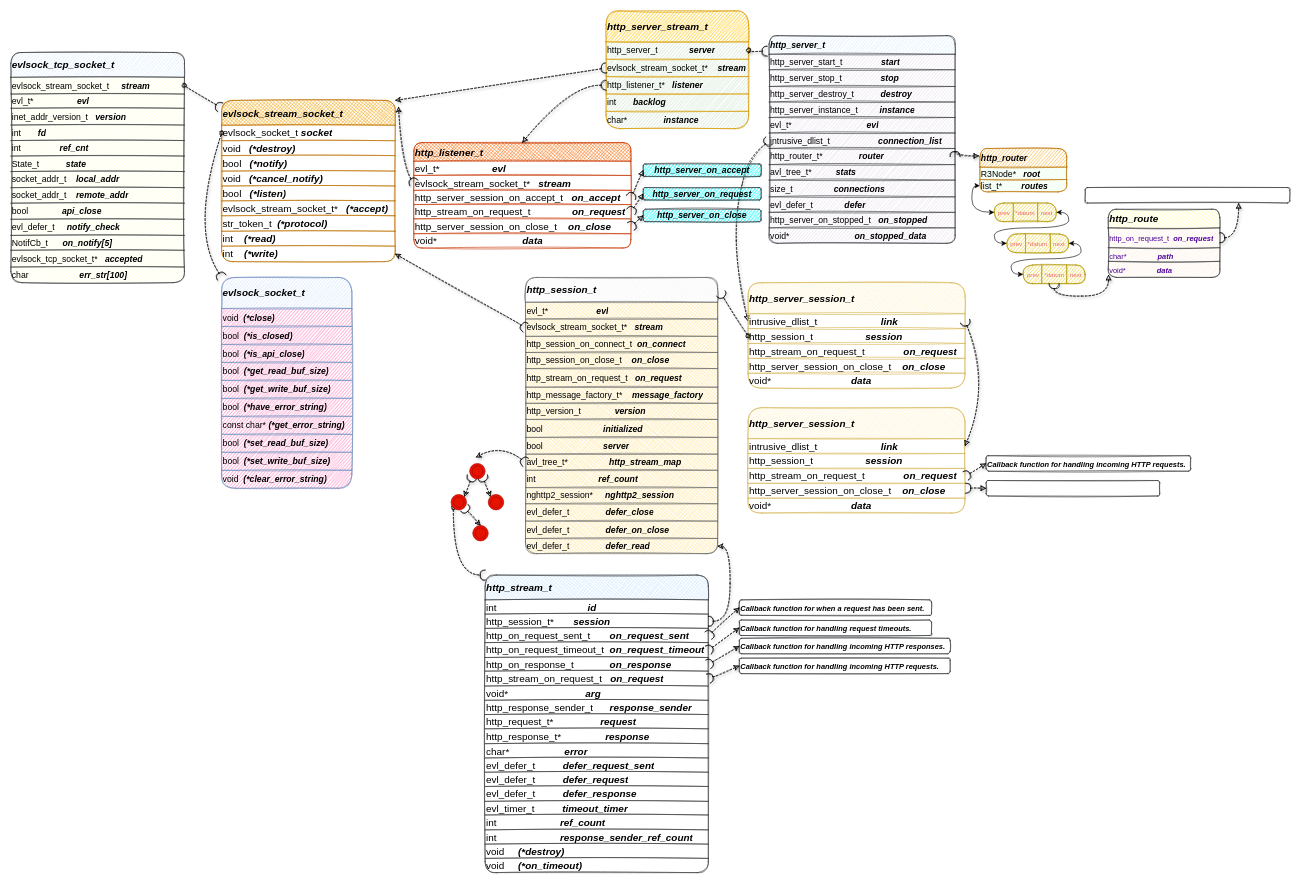
Some shapes in this 1301 by 884 pixel diagram are drawn without their labels. The centre of each missing label's shape, as x and y in pixels:
Callback function for handling incoming HTTP requests: the point at 1187,195
Callback function for handling session closure.: the point at 1072,488
